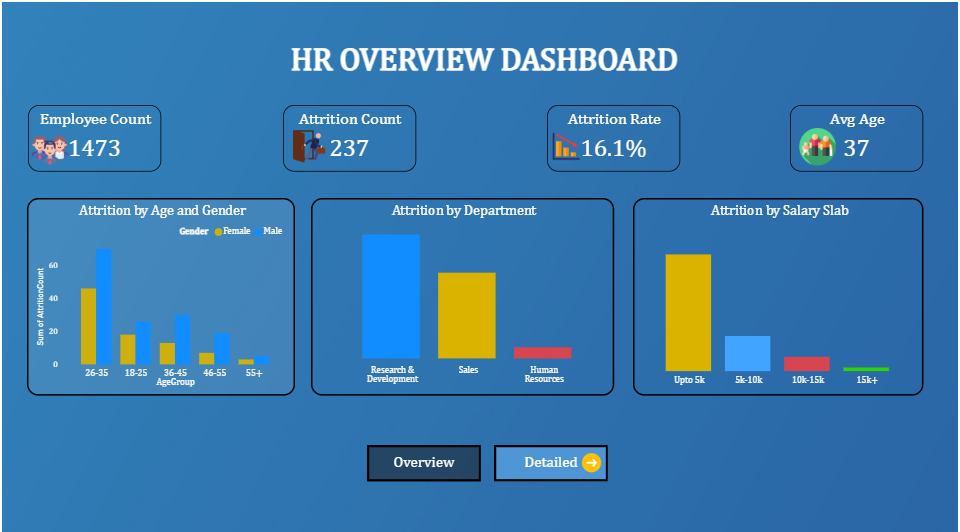

Layout of this report page (visuals, bound fields, positions):
{"tool":"powerbi","page":{"name":"Overview","canvas":[1280,720],"ordinal":0},"visuals":[{"type":"card","title":"Employee Count","fields":{"Values":["Sum(HR_Analytics_2.EmployeeCount)"]},"box":[34.4,138.9,177.5,89.5],"z":0},{"type":"card","title":"Attrition Count","fields":{"Values":["Sum(HR_Analytics_2.AttritionCount)"]},"box":[375.7,138.9,177.5,89.5],"z":1000},{"type":"card","title":"Attrition Rate","fields":{"Values":["HR_Analytics_2.AttritionRate"]},"box":[728.1,138.9,177.5,89.5],"z":2000},{"type":"card","title":"Avg Age","fields":{"Values":["Avg(HR_Analytics_2.Age)"]},"box":[1052.9,138.9,177.5,89.5],"z":3000},{"type":"lineClusteredColumnComboChart","title":"Attrition by Age and Gender","fields":{"Category":["HR_Analytics_2.AgeGroup"],"Series":["HR_Analytics_2.Gender"],"Y":["Sum(HR_Analytics_2.AttritionCount)"]},"box":[33,262.8,357.8,264.3],"z":4000},{"type":"columnChart","title":"Attrition by Department","fields":{"Category":["HR_Analytics_2.Department"],"Y":["Sum(HR_Analytics_2.AttritionCount)"]},"box":[412.9,262.8,404.6,264.3],"z":5000},{"type":"columnChart","title":"Attrition by Salary Slab","fields":{"Y":["Sum(HR_Analytics_2.AttritionCount)"],"Category":["HR_Analytics_2.SalarySlab"]},"box":[842.3,262.8,388.1,264.3],"z":6000},{"type":"textbox","box":[326.2,50.8,627.6,61.9],"z":7000},{"type":"image","box":[38.5,169.2,49.5,59.2],"z":8000},{"type":"image","box":[388.1,169.2,42.7,49.5],"z":9000},{"type":"image","box":[732.2,169.2,42.7,49.5],"z":10000},{"type":"image","box":[1062.5,169.2,55.1,49.5],"z":11000},{"type":"actionButton","title":"Overview","box":[487.4,592.7,152.4,48.6],"z":12000},{"type":"actionButton","box":[656.9,592.7,152.4,48.6],"z":13000},{"type":"image","box":[773.9,591.4,27.6,49.9],"z":14000}]}

Visuals, with their boxes in screenshot pixels (x1, y1, x2, y2), scaled from the page's 1280x720 canvas onto the 960x532 screenshot:
"Employee Count" card: bbox=[26, 103, 159, 169]
"Attrition Count" card: bbox=[282, 103, 415, 169]
"Attrition Rate" card: bbox=[546, 103, 679, 169]
"Avg Age" card: bbox=[790, 103, 923, 169]
"Attrition by Age and Gender" lineClusteredColumnComboChart: bbox=[25, 194, 293, 389]
"Attrition by Department" columnChart: bbox=[310, 194, 613, 389]
"Attrition by Salary Slab" columnChart: bbox=[632, 194, 923, 389]
textbox: bbox=[245, 38, 715, 83]
image: bbox=[29, 125, 66, 169]
image: bbox=[291, 125, 323, 162]
image: bbox=[549, 125, 581, 162]
image: bbox=[797, 125, 838, 162]
"Overview" actionButton: bbox=[366, 438, 480, 474]
actionButton: bbox=[493, 438, 607, 474]
image: bbox=[580, 437, 601, 474]
